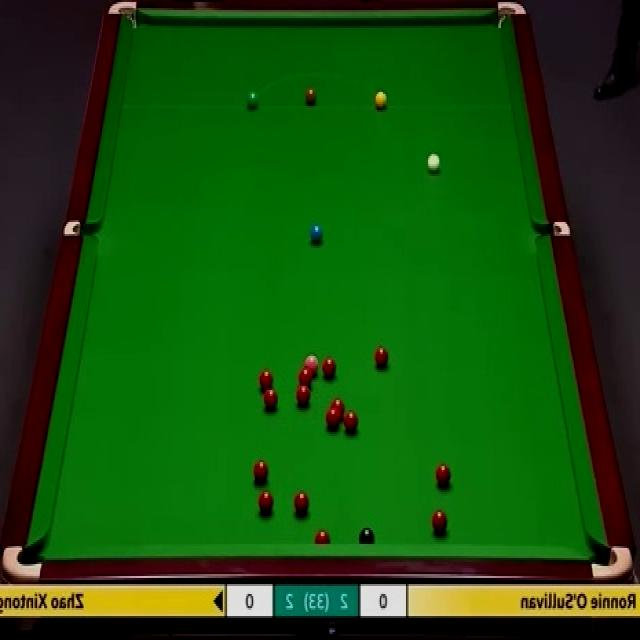black-ball: (358, 528, 374, 544)
blue-ball: (310, 225, 324, 242)
brown-ball: (305, 88, 316, 106)
green-ball: (245, 88, 260, 110)
pink-ball: (304, 354, 319, 374)
red-ball: (253, 460, 270, 485), (294, 384, 311, 408), (431, 511, 448, 534), (258, 490, 273, 514), (321, 358, 339, 378), (344, 409, 359, 433), (434, 464, 452, 484), (292, 486, 308, 508), (374, 343, 389, 366), (263, 387, 278, 410), (259, 368, 273, 390), (331, 398, 344, 418), (326, 408, 339, 428), (313, 529, 331, 543), (298, 367, 312, 385)
white-ball: (426, 152, 441, 176)
yellow-ball: (375, 90, 387, 110)
